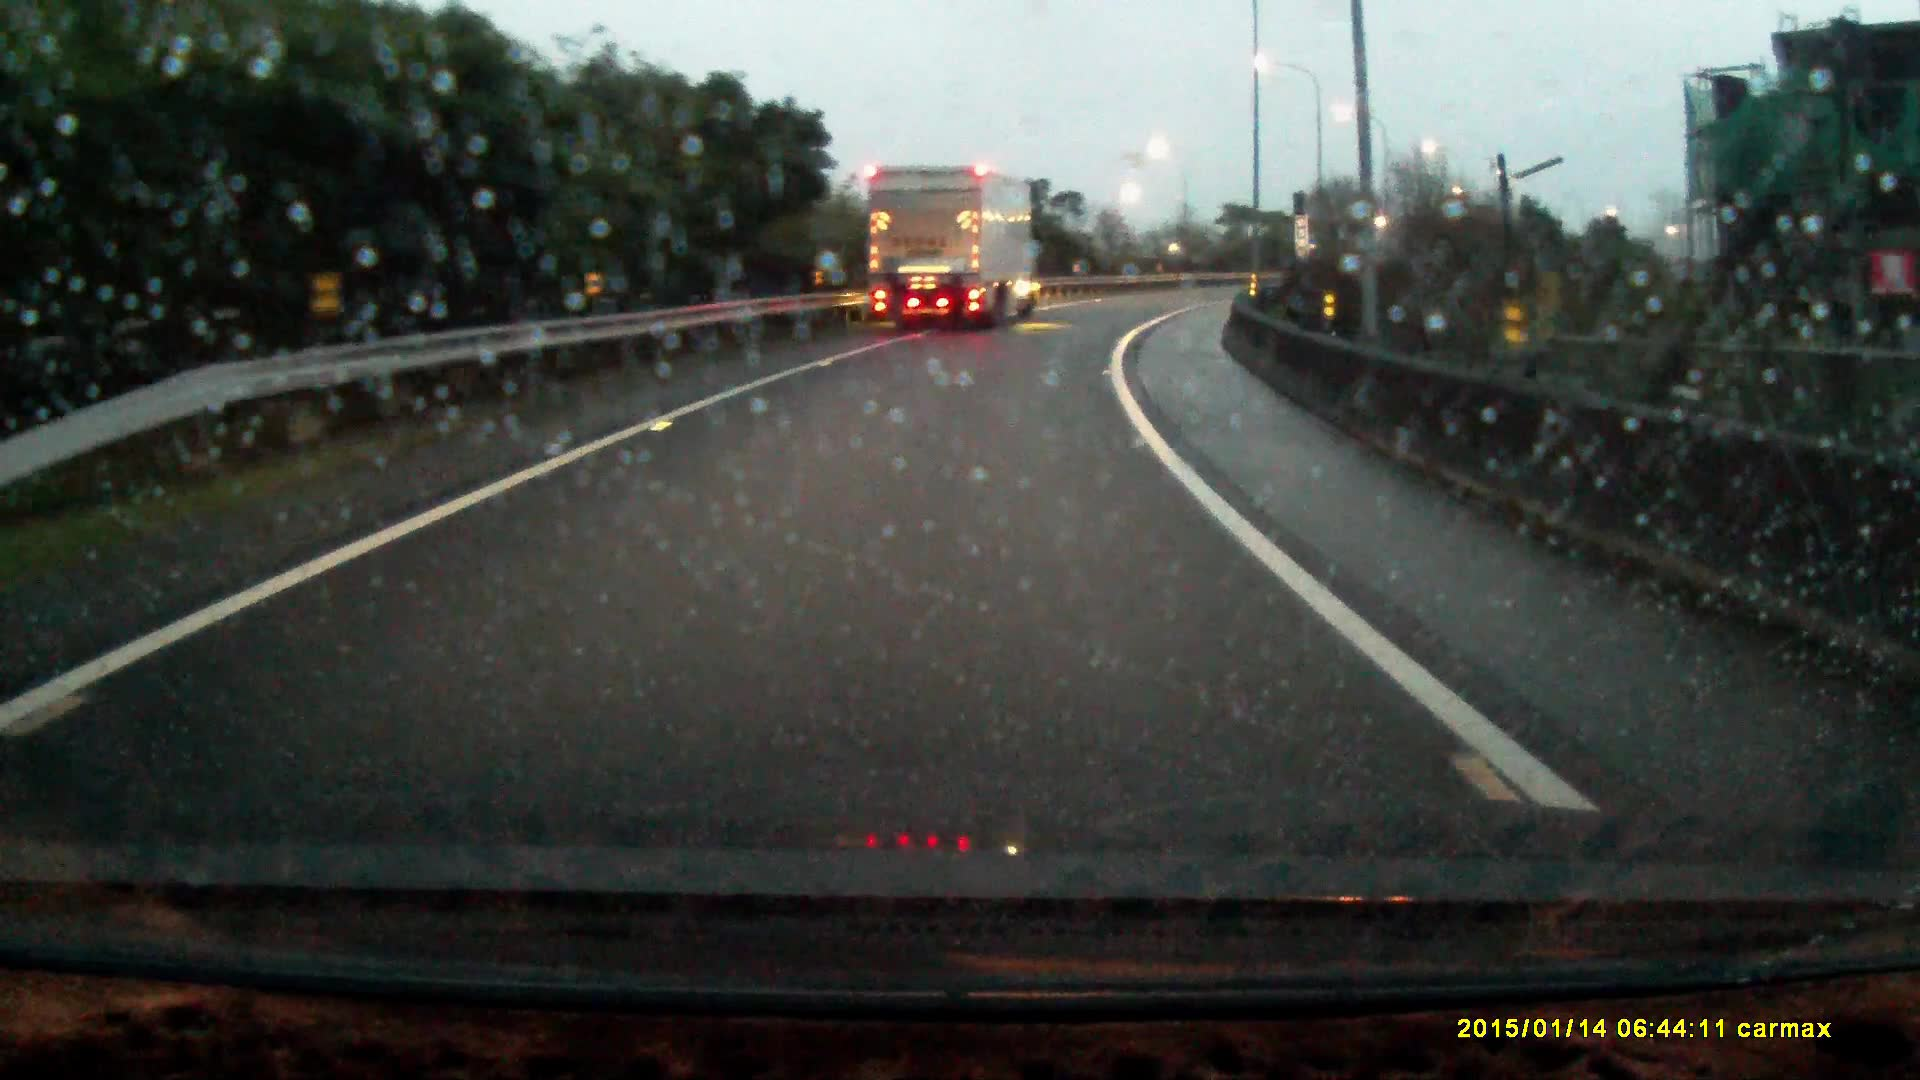vehicle: (872, 166, 1036, 330)
